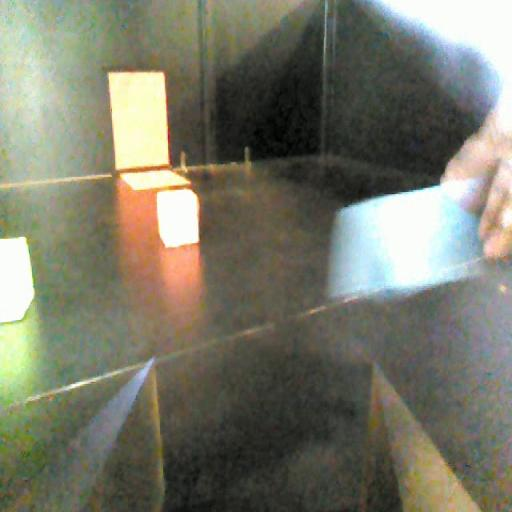cube: (152, 186, 206, 252), (0, 236, 36, 326)
